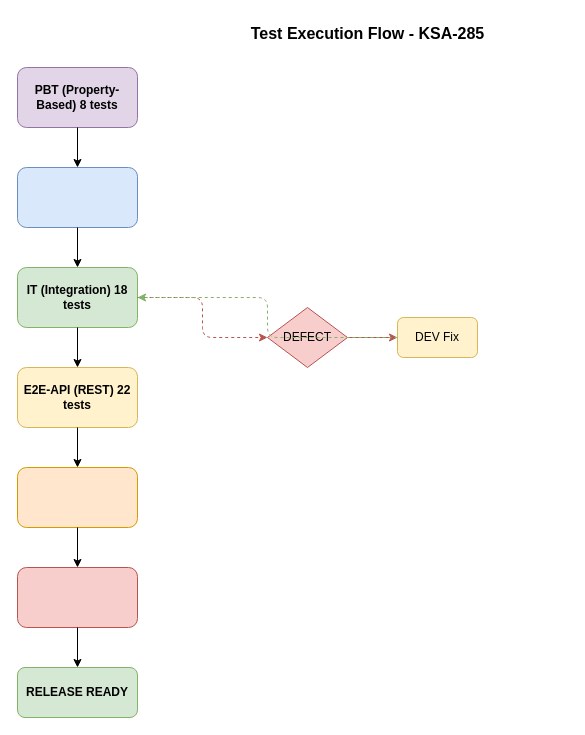
Image size: 585x735. Some labels were removed from this diagram. The shapes that lost their labels are listed below. From the top down, each one's centre as x and y in pixels, then its label:
At point (77, 197): "UT (Unit Tests) 24 tests".
At point (77, 497): "E2E-UI (Browser) 10 tests".
At point (77, 597): "SIT (Manual) 6 tests".
